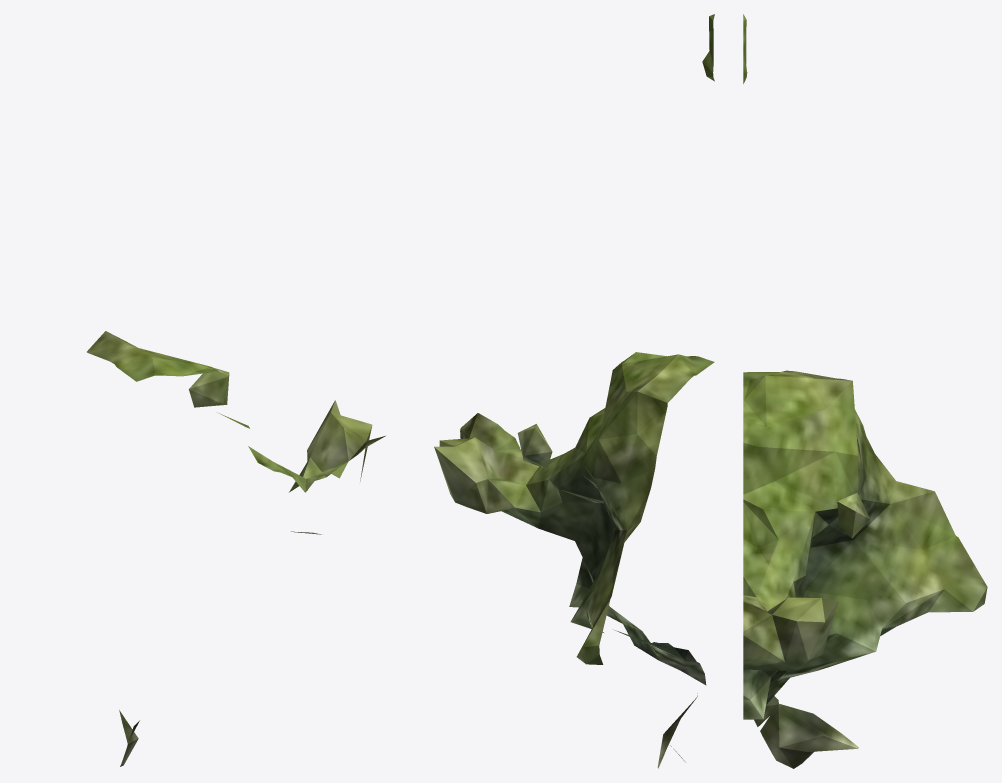
3 views of the same model, side by side, from view 1: azimuth 30°, elevation 25°; view 2: azimuth 150°, elevation 25°; view 3: azimuth 270°, elevation 25° (orthographic). The views are drawn at different scales.
Bounding box in the file's own units: 1.6 × 4.38 × 1.29.
1 material, 1 textured.
